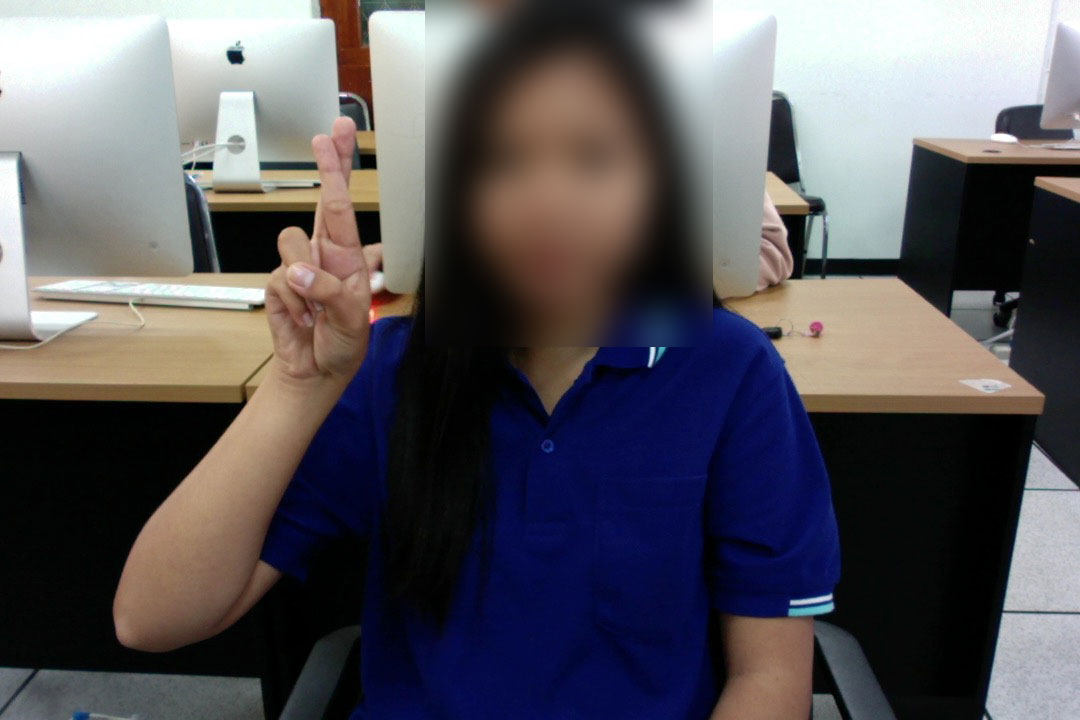rao: (263, 106, 386, 385)
